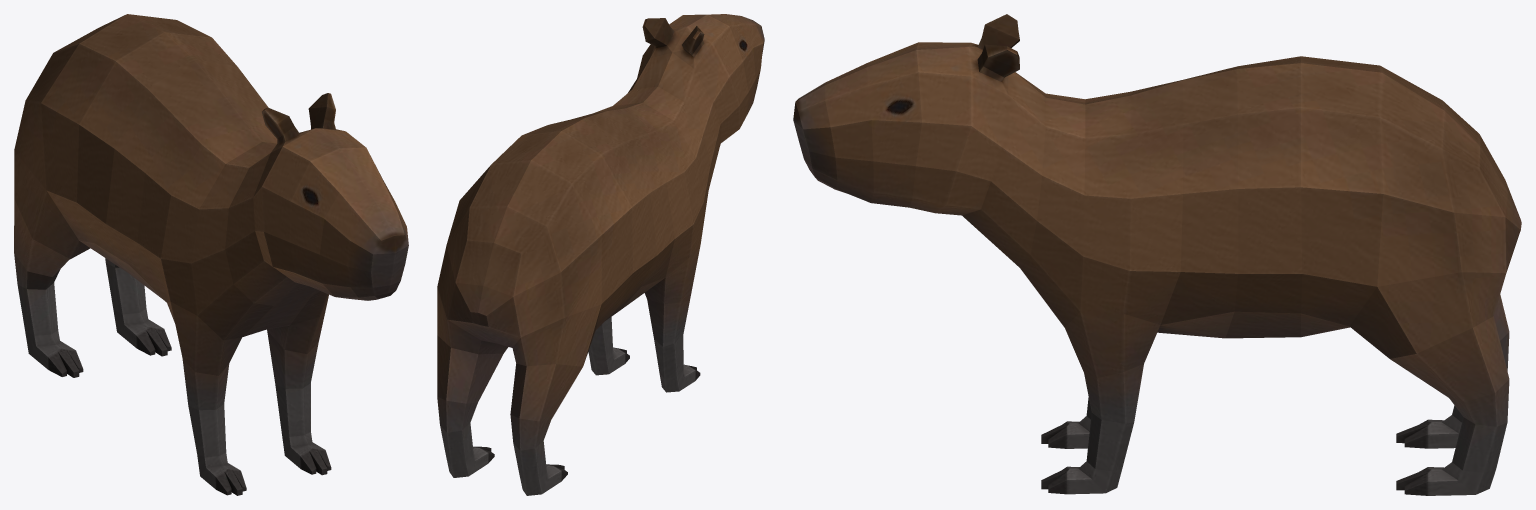
The model's file is capybara.glb.
3 views of the same model, side by side, from view 1: azimuth 30°, elevation 25°; view 2: azimuth 150°, elevation 25°; view 3: azimuth 270°, elevation 25° (orthographic). The views are drawn at different scales.
Visible parts, largest first — view 1: Capybara_mesh; view 2: Capybara_mesh; view 3: Capybara_mesh.
Part boxes in pixels (<box>): Capybara_mesh: <box>14,14,408,495</box>; Capybara_mesh: <box>437,14,764,495</box>; Capybara_mesh: <box>793,14,1521,495</box>.
Size of the model in its own units: 2.16 by 4.72 by 7.16.
1 material, 1 textured.
